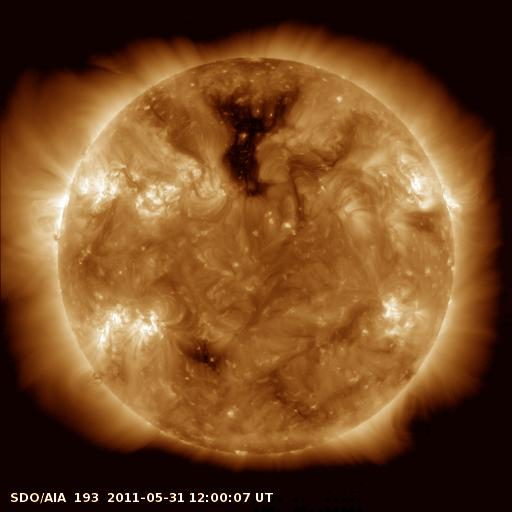coronal_hole: (201, 80, 304, 199), (177, 340, 221, 373)
